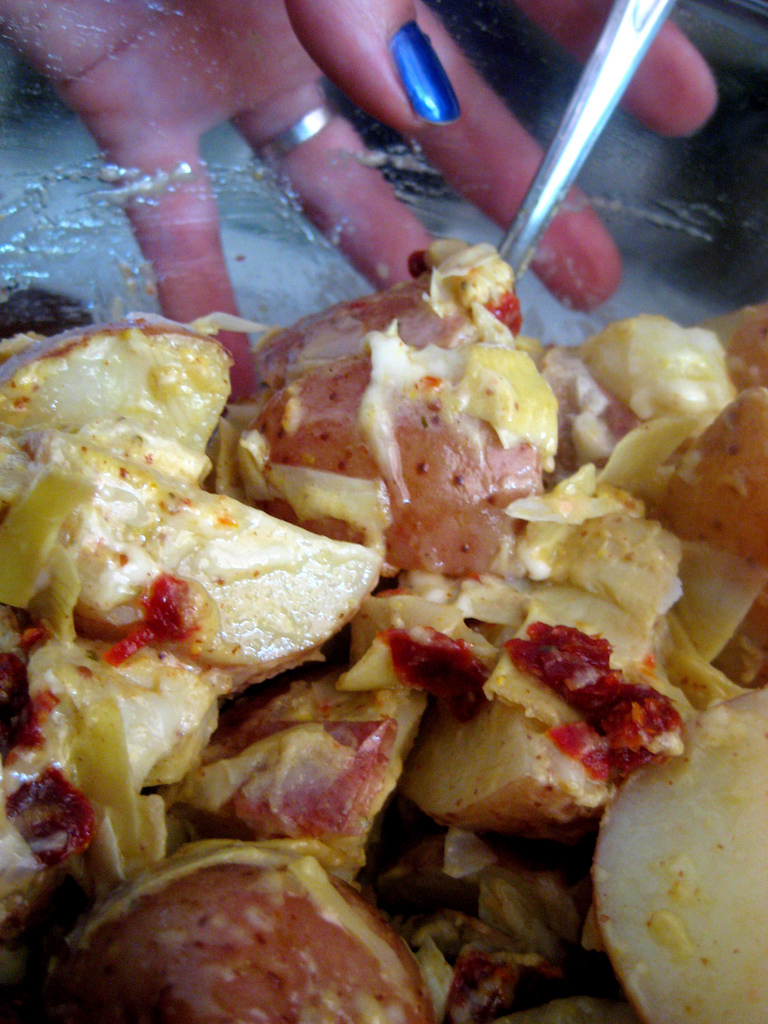boiled potatoes: (28, 437, 335, 656), (264, 318, 549, 533)
